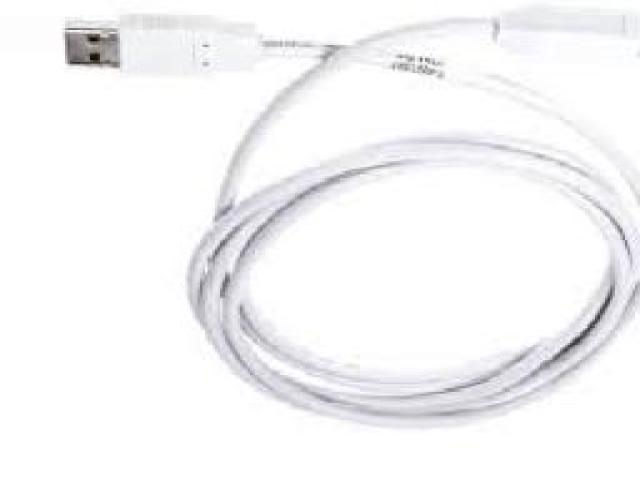wire: (60, 0, 638, 428)
